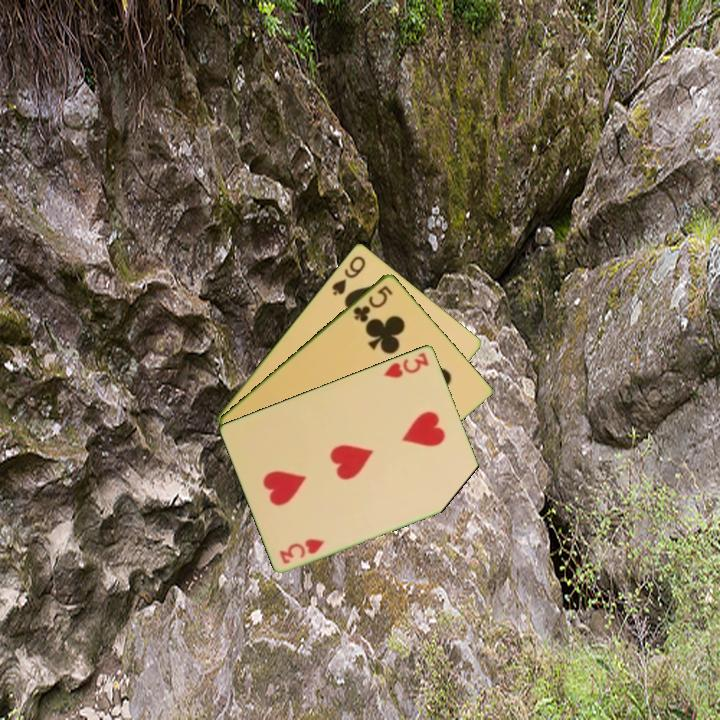3h: (380, 348, 432, 381), (276, 535, 328, 566)
5c: (349, 281, 396, 325)
9s: (328, 252, 368, 298)
